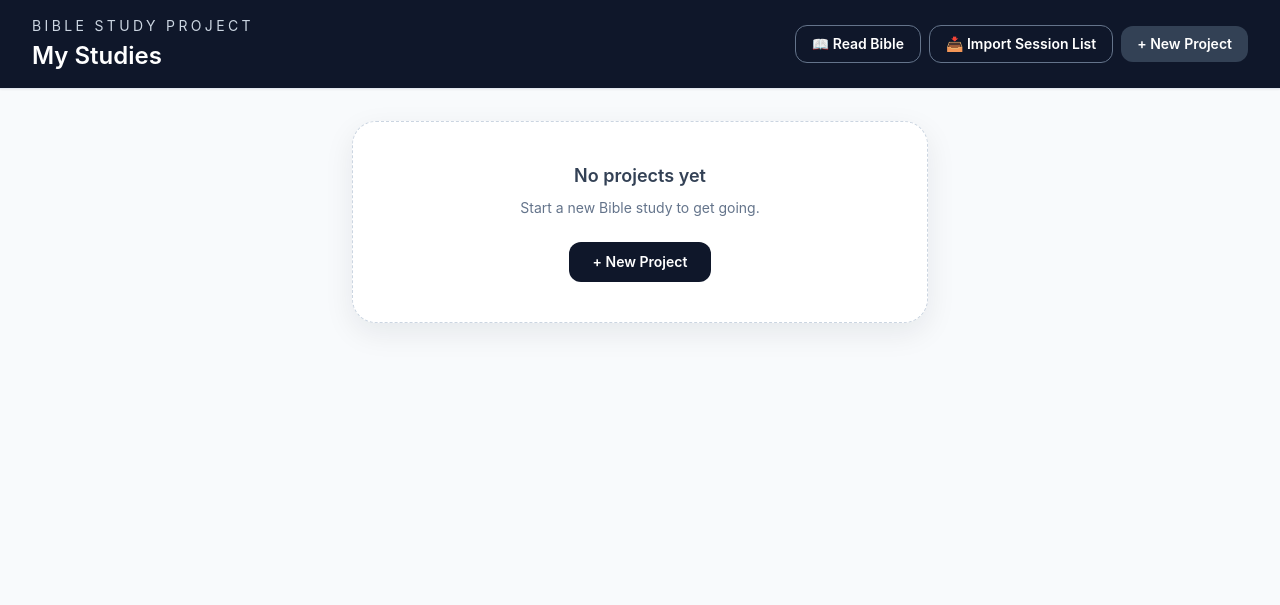
Loading a chapter › shows an error message when the API returns a non-ok response
Click the button "+ New Project" in the row of "Bible Study Project".
click(1185, 44)  # box [1121,26,1248,62]
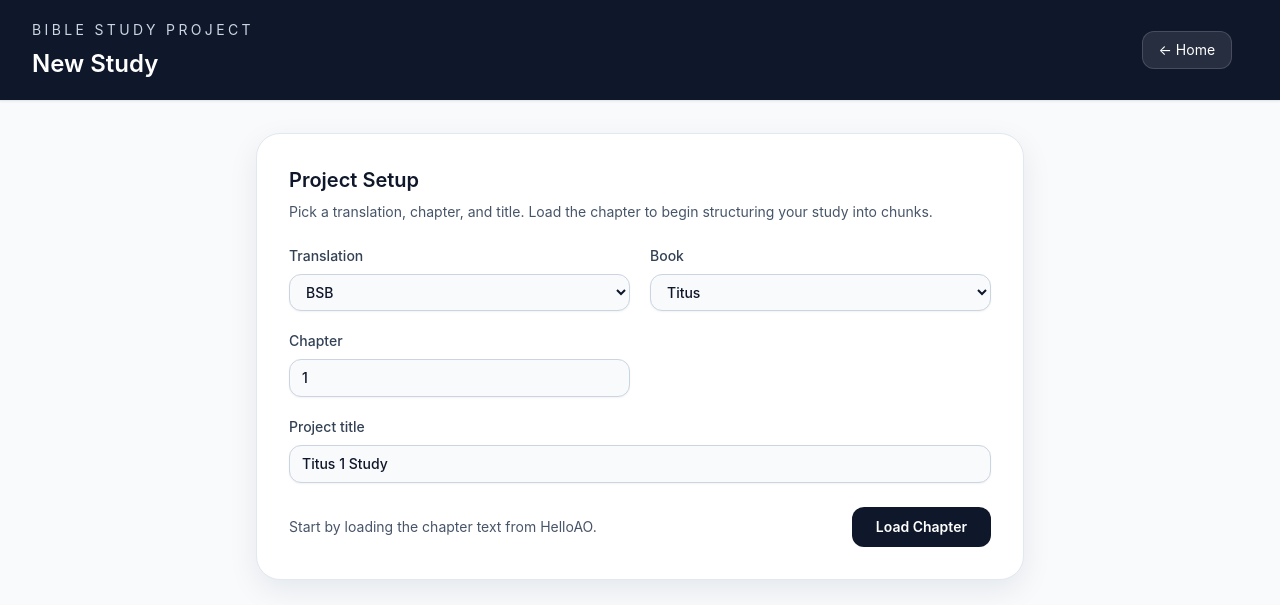
Click the button "Load Chapter".
click(921, 527)  # box [852,507,991,547]
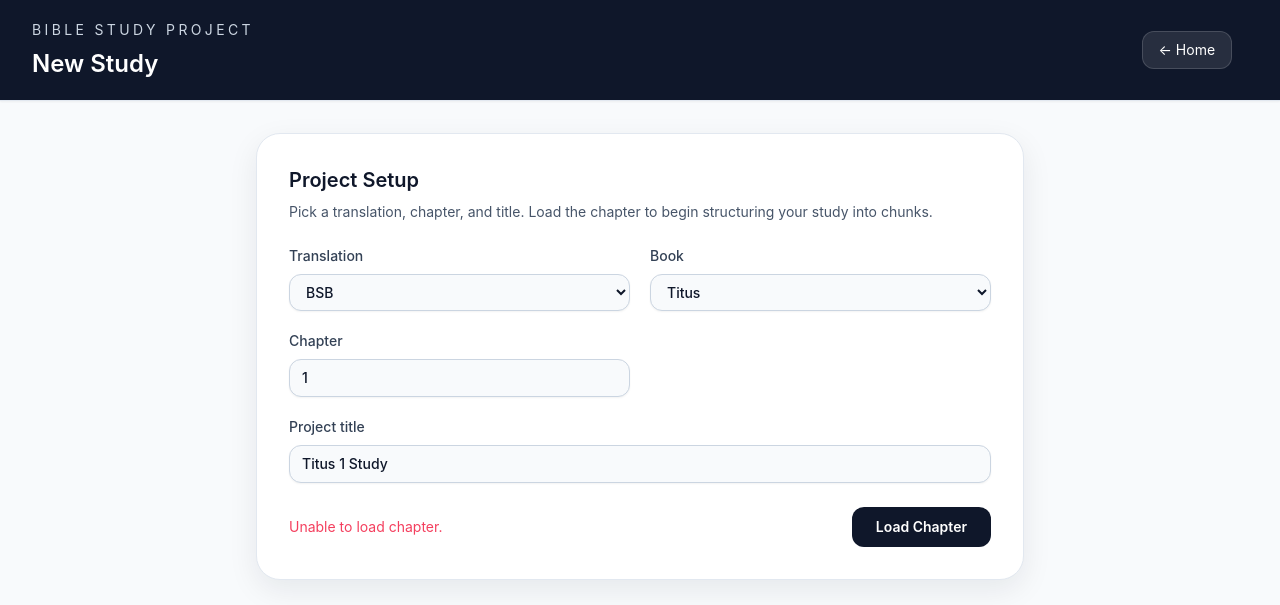
Expected: the text "Unable to load chapter." is shown, [289,518,442,535]
